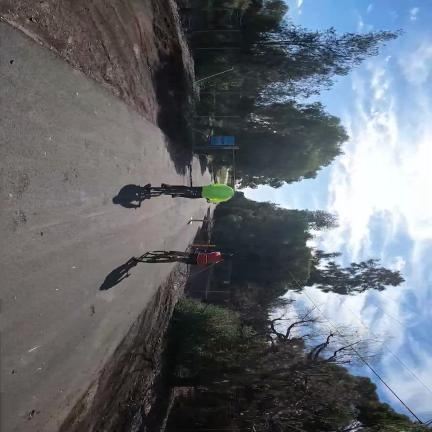Bike_Lane: (0, 22, 211, 432)
